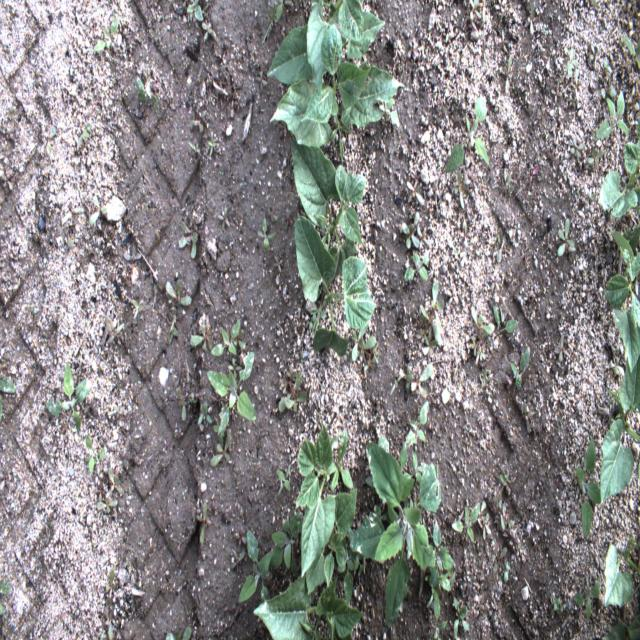crop: (268, 0, 406, 161), (294, 215, 376, 356), (289, 139, 369, 275), (252, 573, 364, 639), (599, 342, 640, 504), (296, 432, 337, 580), (305, 486, 357, 594), (604, 222, 640, 374), (598, 141, 640, 220), (603, 536, 640, 608)
weed: (342, 437, 458, 636), (234, 512, 302, 606), (442, 99, 490, 204), (206, 344, 258, 436), (466, 306, 521, 367), (574, 434, 604, 538), (46, 365, 89, 434), (447, 493, 491, 548), (417, 272, 444, 351), (399, 402, 430, 468), (594, 86, 632, 139), (279, 364, 310, 420), (392, 359, 434, 400), (329, 428, 353, 492), (350, 327, 380, 374), (212, 320, 248, 357), (96, 466, 123, 514), (401, 210, 428, 254), (511, 340, 534, 391), (493, 494, 518, 538), (92, 17, 122, 53), (573, 583, 600, 623), (261, 0, 286, 41), (177, 220, 201, 262), (600, 610, 638, 636), (172, 384, 194, 428), (450, 593, 472, 637), (166, 278, 192, 315), (548, 592, 571, 632), (256, 213, 278, 252), (557, 218, 577, 260), (273, 457, 295, 495), (376, 96, 400, 130), (130, 75, 157, 105), (99, 320, 127, 348), (186, 320, 211, 351), (206, 436, 230, 468), (404, 174, 428, 206), (88, 198, 112, 229), (496, 548, 516, 585), (403, 254, 430, 281), (464, 1, 492, 27), (96, 608, 118, 638), (86, 441, 105, 475), (73, 113, 92, 147), (187, 103, 208, 133), (2, 378, 15, 426), (194, 501, 209, 542), (623, 30, 638, 70), (130, 296, 152, 322), (563, 48, 581, 79), (104, 565, 120, 599), (627, 85, 638, 134), (527, 5, 540, 46), (40, 124, 56, 157), (551, 335, 569, 364), (501, 54, 515, 91), (60, 223, 76, 254), (224, 548, 244, 572), (196, 400, 213, 428), (1, 578, 11, 624), (185, 3, 205, 26), (499, 462, 514, 491), (199, 15, 215, 42), (403, 38, 421, 62), (494, 224, 504, 265), (502, 171, 516, 200), (256, 70, 270, 98), (601, 78, 618, 101), (217, 205, 231, 231), (445, 284, 459, 310), (166, 322, 181, 345), (569, 135, 584, 158), (608, 344, 619, 375), (205, 136, 221, 157), (459, 217, 470, 245), (587, 144, 600, 167), (177, 481, 190, 504), (490, 272, 501, 299), (529, 154, 541, 178), (622, 1, 637, 20), (494, 1, 508, 21), (602, 56, 616, 76), (238, 167, 250, 190), (498, 31, 510, 54), (540, 21, 552, 44), (589, 44, 599, 69), (32, 66, 43, 88), (274, 252, 286, 272), (190, 139, 202, 159), (266, 206, 280, 223), (2, 168, 13, 189), (479, 371, 492, 388), (179, 623, 194, 637), (218, 164, 230, 177), (163, 627, 175, 639), (551, 151, 560, 167)
